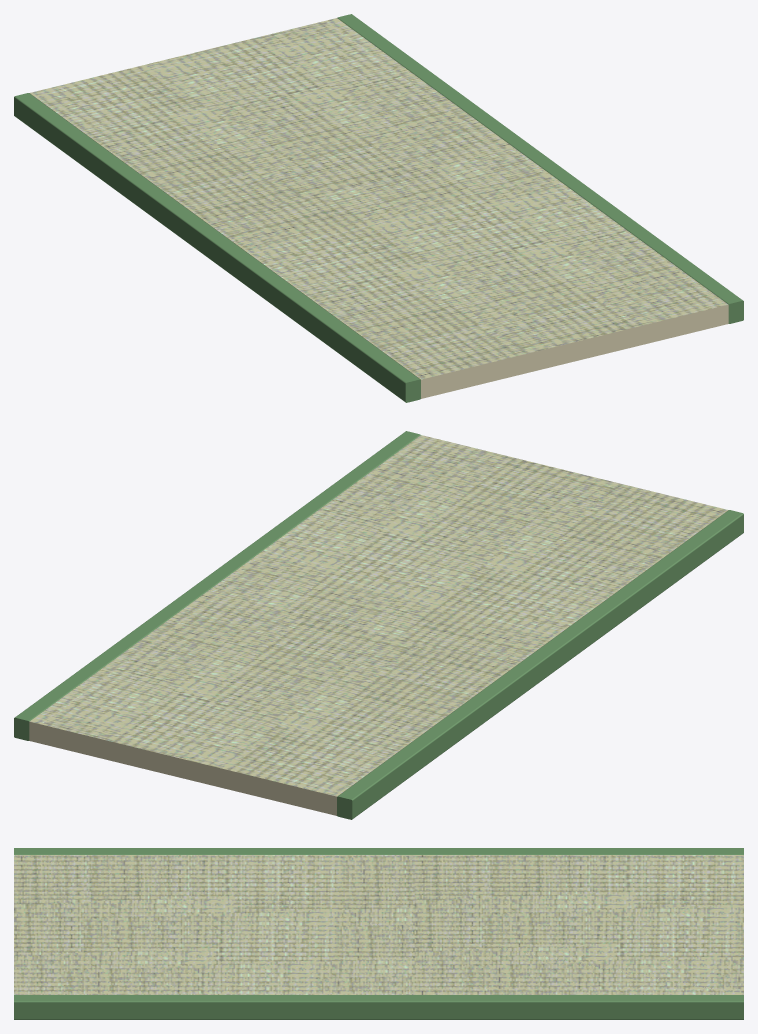
File: 772_tatami.fbx
3 views of the same model, one above another, from view 1: azimuth 30°, elevation 25°; view 2: azimuth 150°, elevation 25°; view 3: azimuth 270°, elevation 25° (orthographic). The views are drawn at different scales.
Parts seen in each view (by area): view 1: Body; view 2: Body; view 3: Body.
Boxes of the visible parts, <box> form: Body: <box>14,14,743,402</box>; Body: <box>14,431,743,819</box>; Body: <box>14,848,743,1019</box>.
Bounding box in the file's own units: 87.8 × 5 × 176.
Materials: 3 (1 with a texture image).
